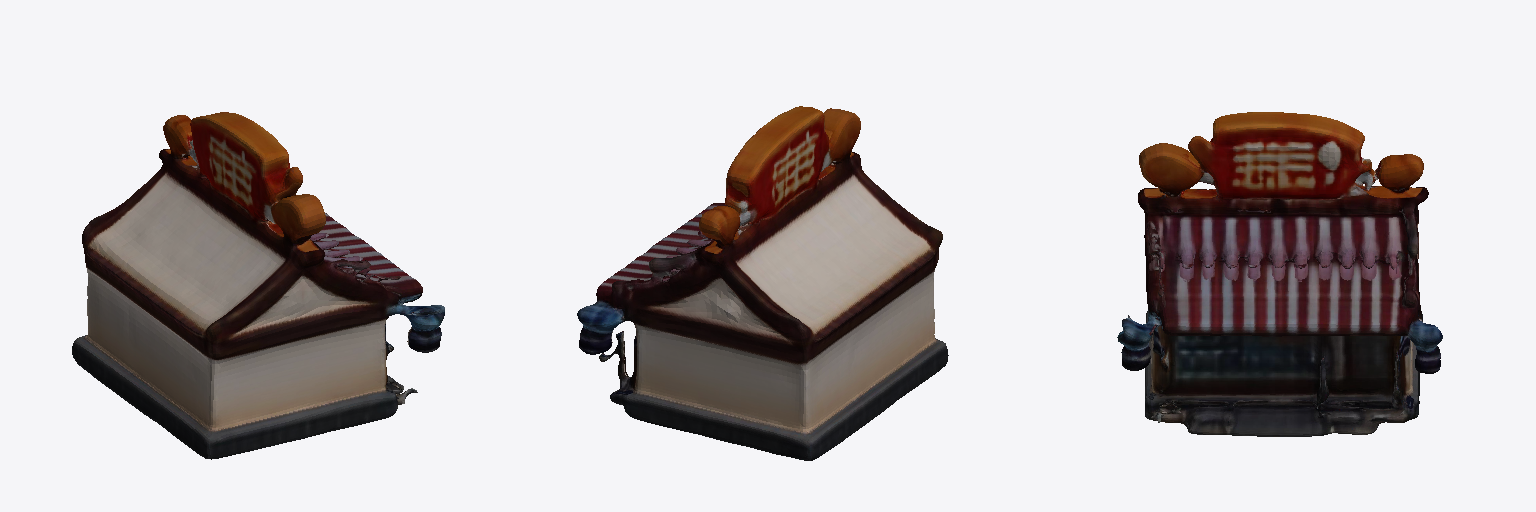
3 views of the same model, side by side, from view 1: azimuth 30°, elevation 25°; view 2: azimuth 150°, elevation 25°; view 3: azimuth 270°, elevation 25° (orthographic).
Parts seen in each view (by area): view 1: mesh; view 2: mesh; view 3: mesh.
Part boxes in pixels (left/top/right/bottom): mesh: left=72, top=112, right=444, bottom=459; mesh: left=577, top=106, right=948, bottom=460; mesh: left=1117, top=112, right=1442, bottom=436.
Bounding box in the file's own units: 0.8107 × 0.8878 × 0.9908.
Materials: 1 (1 with a texture image).